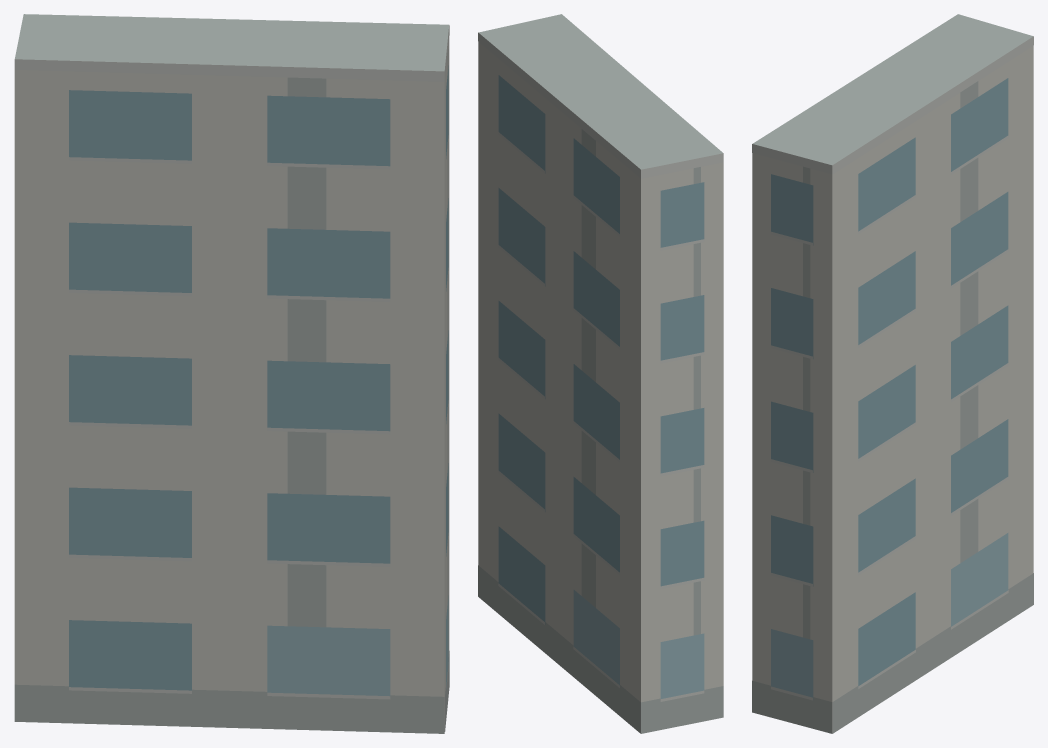
The model's file is survey-upis-32736906.glb.
3 views of the same model, side by side, from view 1: azimuth 30°, elevation 25°; view 2: azimuth 150°, elevation 25°; view 3: azimuth 270°, elevation 25° (orthographic). The views are drawn at different scales.
Parts seen in each view (by area): view 1: survey-upis-32736906.tmp; view 2: survey-upis-32736906.tmp; view 3: survey-upis-32736906.tmp.
Boxes of the visible parts, x1=… form: survey-upis-32736906.tmp: x1=14, y1=14, x2=449, y2=733; survey-upis-32736906.tmp: x1=478, y1=14, x2=723, y2=733; survey-upis-32736906.tmp: x1=752, y1=14, x2=1033, y2=733.
Size of the model in its own units: 8.71 by 15.25 by 6.85.
